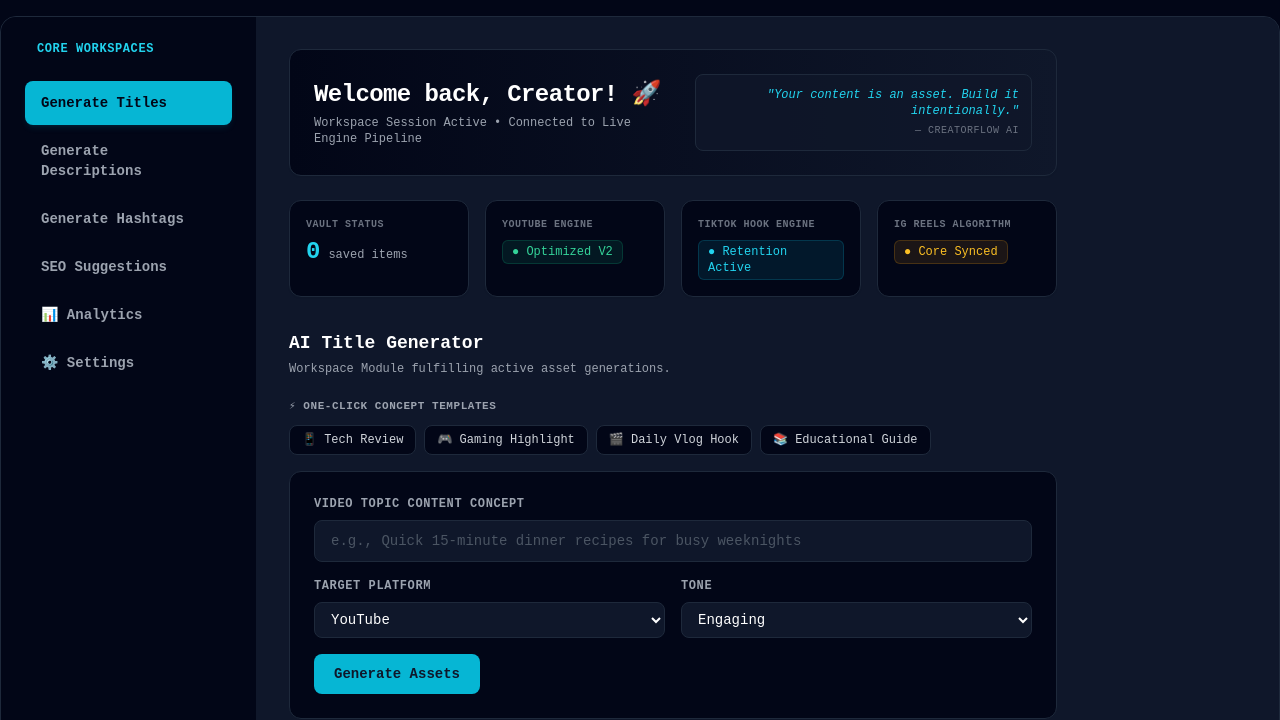
Scenario: AIToolStudio — AI generation (US-03 to US-06) › Title Generator posts topic, platform and tone and renders each title
Type "how to start a podcast" into the field with placeholder "e.g., Quick 15-minute dinner recipes for busy weeknights".
click(673, 541); type("how to start a podcast")  # box [314,520,1032,562]
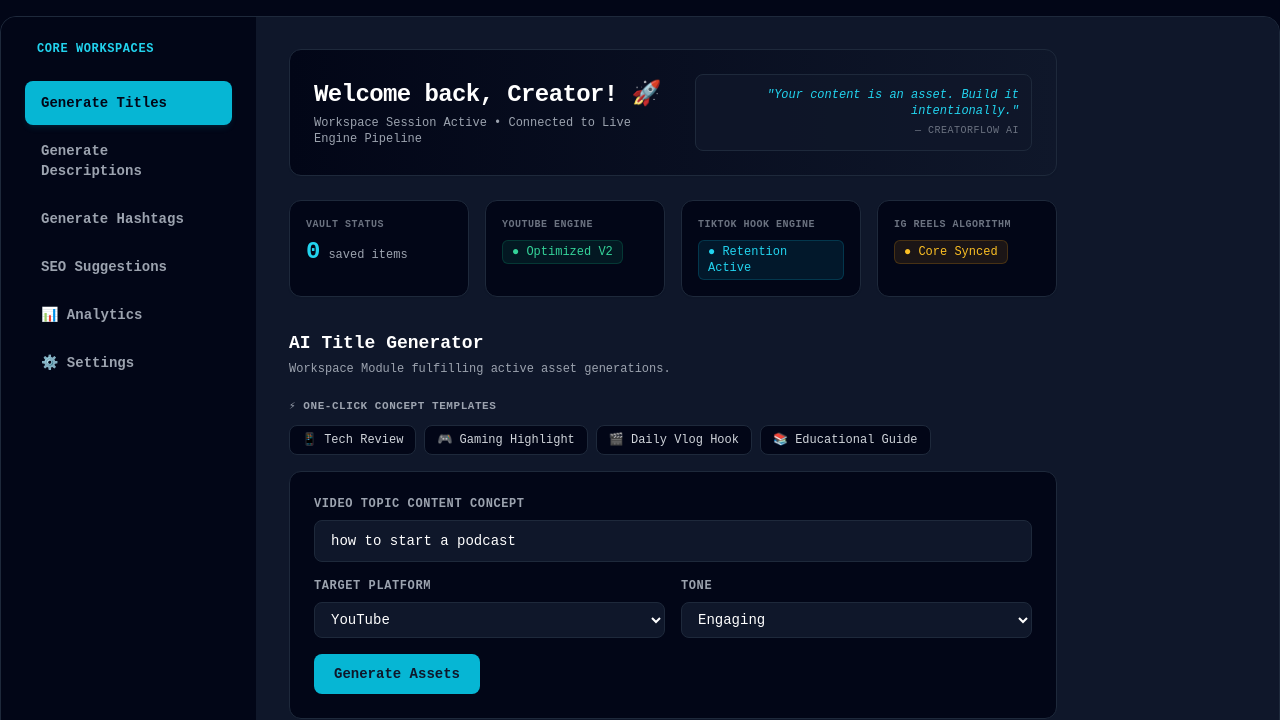
Select "TikTok" in the dropdown showing "YouTube" below "Target Platform" at (490, 620), box [314,602,665,638]
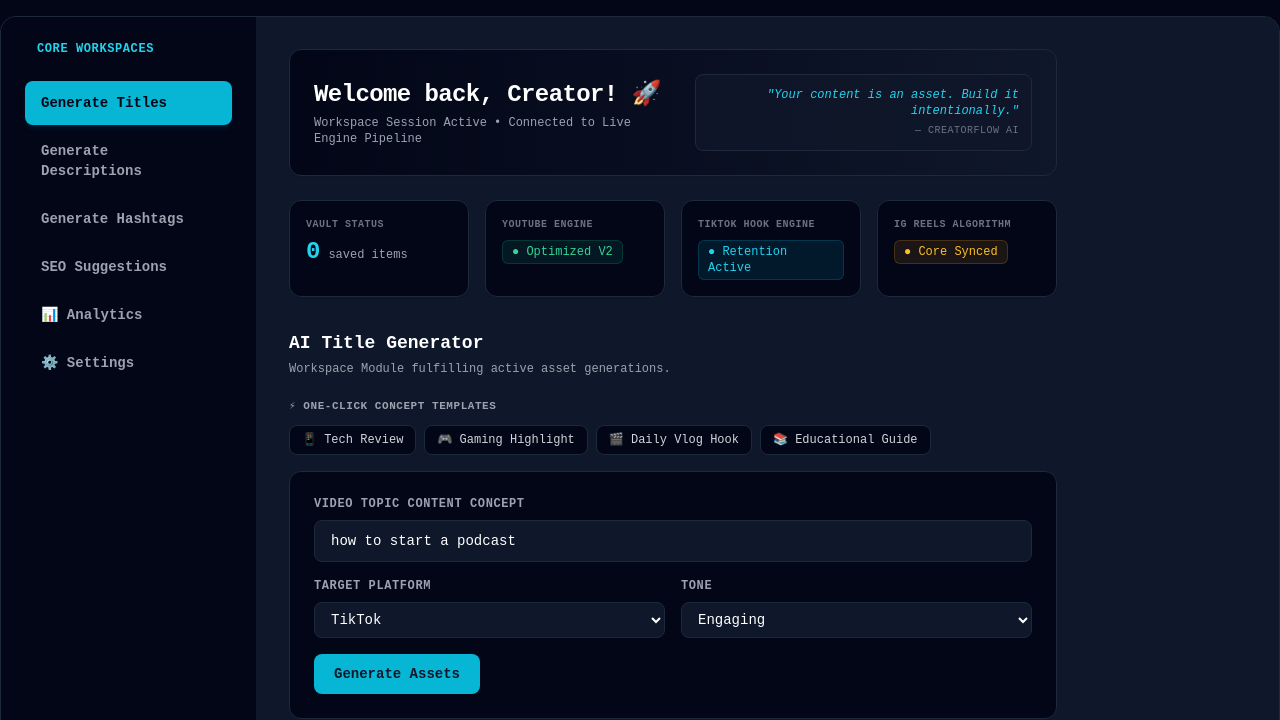
Select "Clickbait/Viral" in the dropdown showing "Engaging" below "Tone" at (856, 620), box [681,602,1032,638]
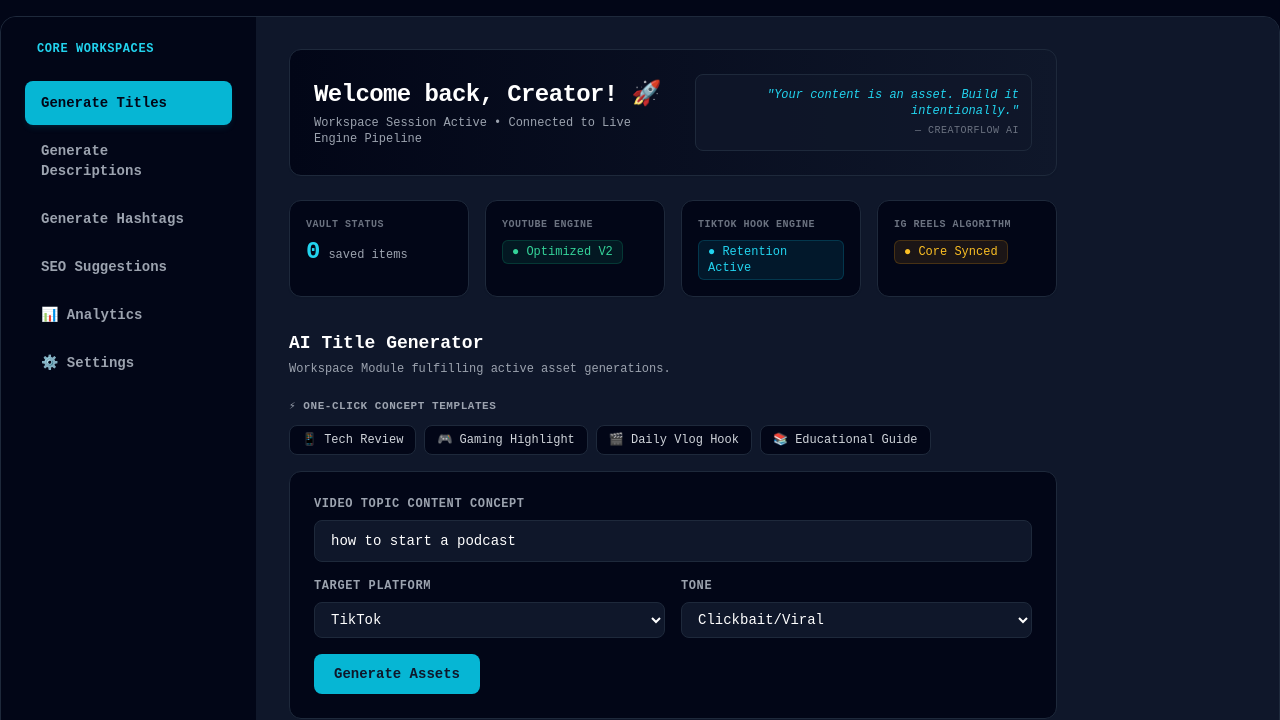
Click the button "Generate Assets".
click(397, 674)  # box [314,654,480,694]
(page scrolled)
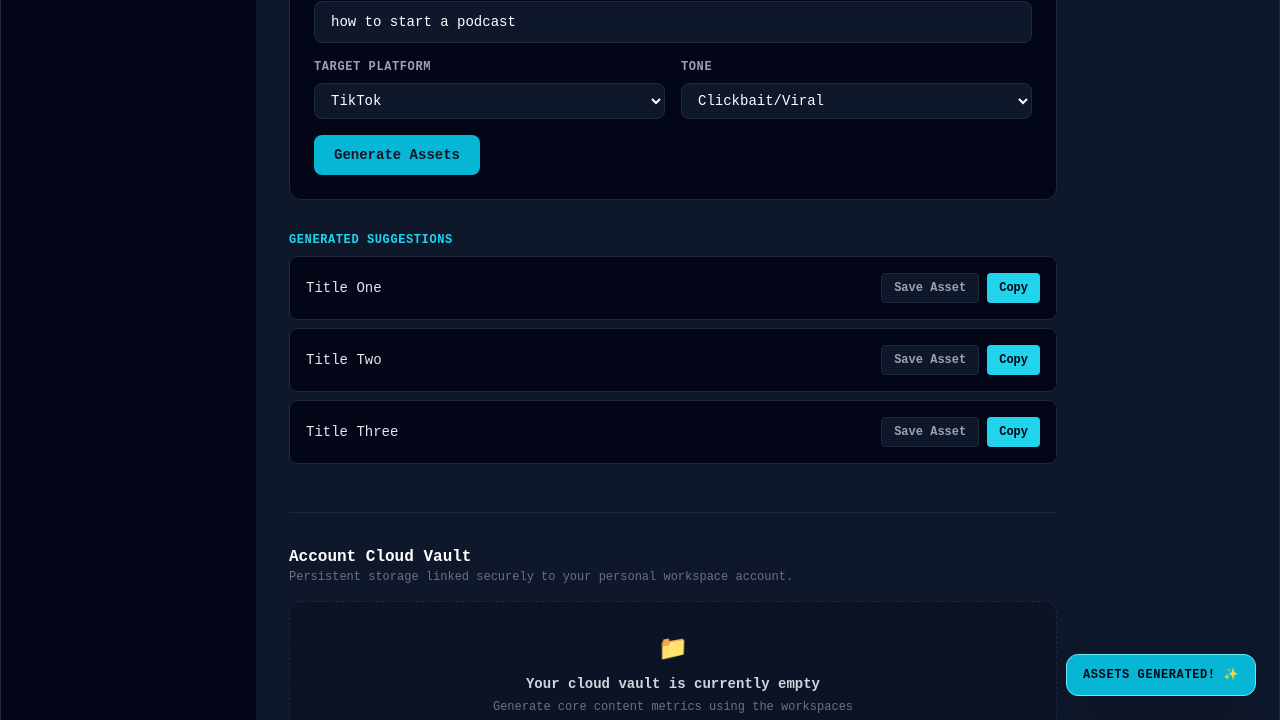
expect the text "Title Two" is shown: met, box [306,350,382,370]
expect the number of buttons "Save Asset" is 3: met, box [881,273,979,303]; [881,345,979,375]; [881,417,979,447]
expect the number of buttons "Copy" is 3: met, box [987,273,1040,303]; [987,345,1040,375]; [987,417,1040,447]
